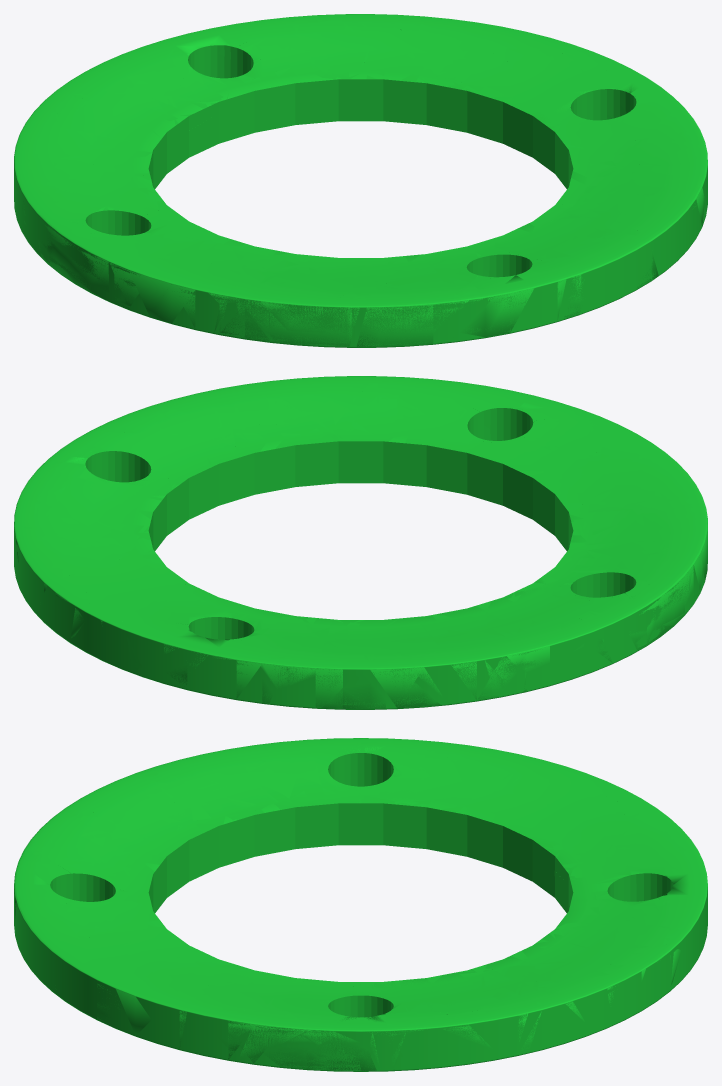
File: Platform break (1).fbx
3 renders of one model, top to bottom at view 1: azimuth 30°, elevation 25°; view 2: azimuth 150°, elevation 25°; view 3: azimuth 270°, elevation 25°, orthographic.
Parts seen in each view (by area): view 1: Cylinder, Cylinder_cell.007, Cylinder_cell.018, Cylinder_cell.019, Cylinder_cell.162, Cylinder_cell.164, Cylinder_cell.054, Cylinder_cell.010, Cylinder_cell.078, Cylinder_cell.187, Cylinder_cell.141, Cylinder_cell.036 (+44 smaller); view 2: Cylinder, Cylinder_cell.006, Cylinder_cell.017, Cylinder_cell.162, Cylinder_cell.010, Cylinder_cell.018, Cylinder_cell.056, Cylinder_cell.026, Cylinder_cell.007, Cylinder_cell.041, Cylinder_cell.178, Cylinder_cell.142 (+44 smaller); view 3: Cylinder, Cylinder_cell.018, Cylinder_cell.026, Cylinder_cell.010, Cylinder_cell.156, Cylinder_cell.064, Cylinder_cell.007, Cylinder_cell.161, Cylinder_cell.056, Cylinder_cell.142, Cylinder_cell.150, Cylinder_cell.086 (+50 smaller).
Part boxes in pixels (x1,y1,x2,y2): Cylinder: (14, 14, 707, 347); Cylinder_cell.007: (444, 61, 630, 188); Cylinder_cell.018: (229, 239, 379, 332); Cylinder_cell.019: (123, 242, 308, 331); Cylinder_cell.162: (522, 74, 671, 186); Cylinder_cell.164: (167, 17, 368, 138); Cylinder_cell.054: (427, 255, 566, 342); Cylinder_cell.010: (552, 84, 699, 174); Cylinder_cell.078: (232, 65, 331, 133); Cylinder_cell.187: (236, 267, 359, 346); Cylinder_cell.141: (357, 283, 449, 346); Cylinder_cell.036: (301, 44, 429, 120); Cylinder: (14, 376, 707, 709); Cylinder_cell.006: (224, 432, 367, 497); Cylinder_cell.017: (400, 382, 577, 503); Cylinder_cell.162: (49, 423, 224, 513); Cylinder_cell.010: (59, 410, 236, 506); Cylinder_cell.018: (547, 461, 697, 543); Cylinder_cell.056: (354, 377, 482, 477); Cylinder_cell.026: (228, 376, 375, 424); Cylinder_cell.007: (49, 450, 227, 550); Cylinder_cell.041: (228, 399, 412, 502); Cylinder_cell.178: (356, 399, 480, 486); Cylinder_cell.142: (155, 384, 337, 502); Cylinder: (14, 738, 707, 1071); Cylinder_cell.018: (82, 777, 282, 859); Cylinder_cell.026: (55, 950, 211, 1035); Cylinder_cell.010: (232, 974, 369, 1042); Cylinder_cell.156: (281, 789, 431, 831); Cylinder_cell.064: (166, 989, 310, 1061); Cylinder_cell.007: (289, 969, 485, 1056); Cylinder_cell.161: (438, 747, 523, 875); Cylinder_cell.056: (21, 901, 157, 945); Cylinder_cell.142: (133, 946, 279, 1048); Cylinder_cell.150: (103, 825, 199, 898); Cylinder_cell.086: (314, 822, 452, 853).
Bounding box in the file's own units: 410 × 32.85 × 410.
